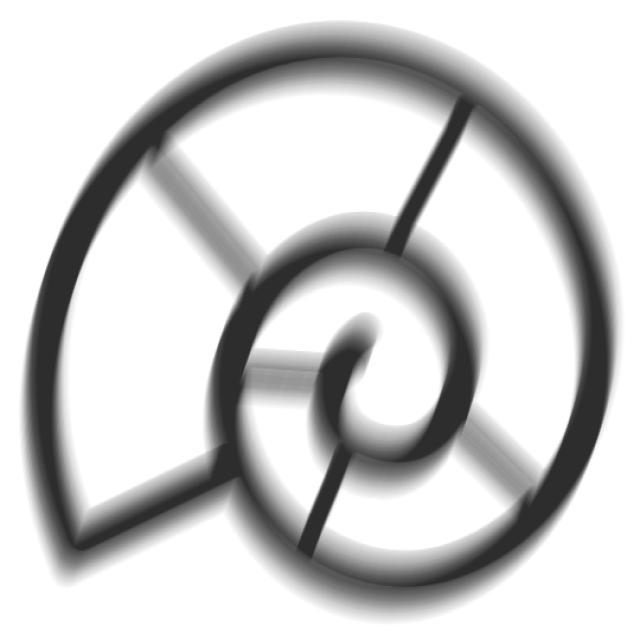fossil: (11, 13, 632, 632)
